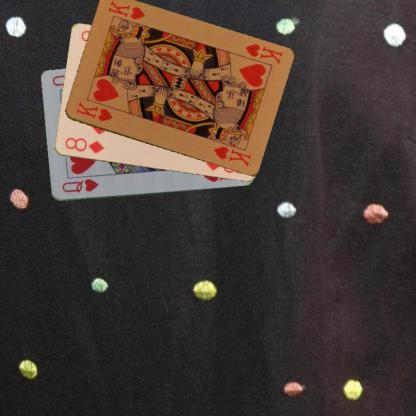8d: (62, 135, 105, 155)
Kh: (242, 41, 284, 66), (74, 99, 114, 123)
Qh: (59, 176, 99, 194)
